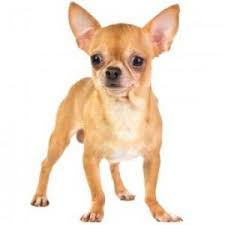chihuahua: (13, 1, 189, 224)
